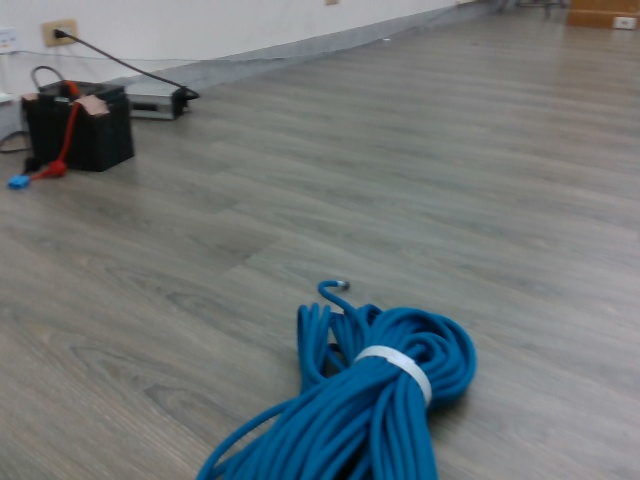rope: (191, 303, 481, 480)
